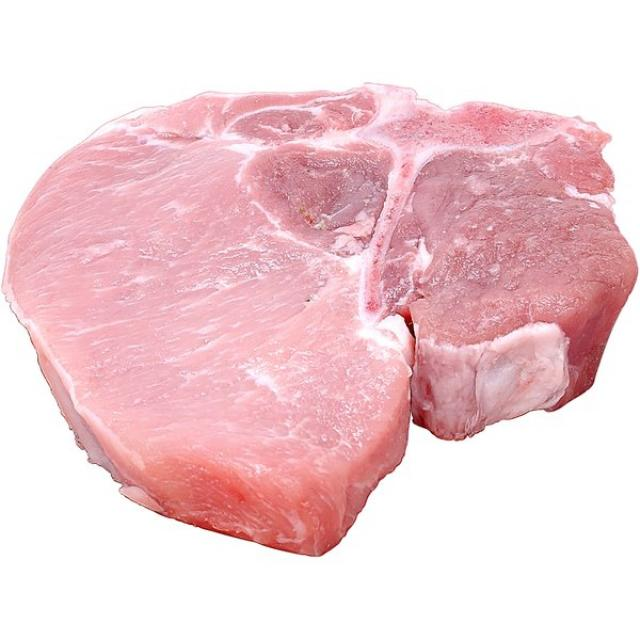pork: (1, 55, 640, 554)
